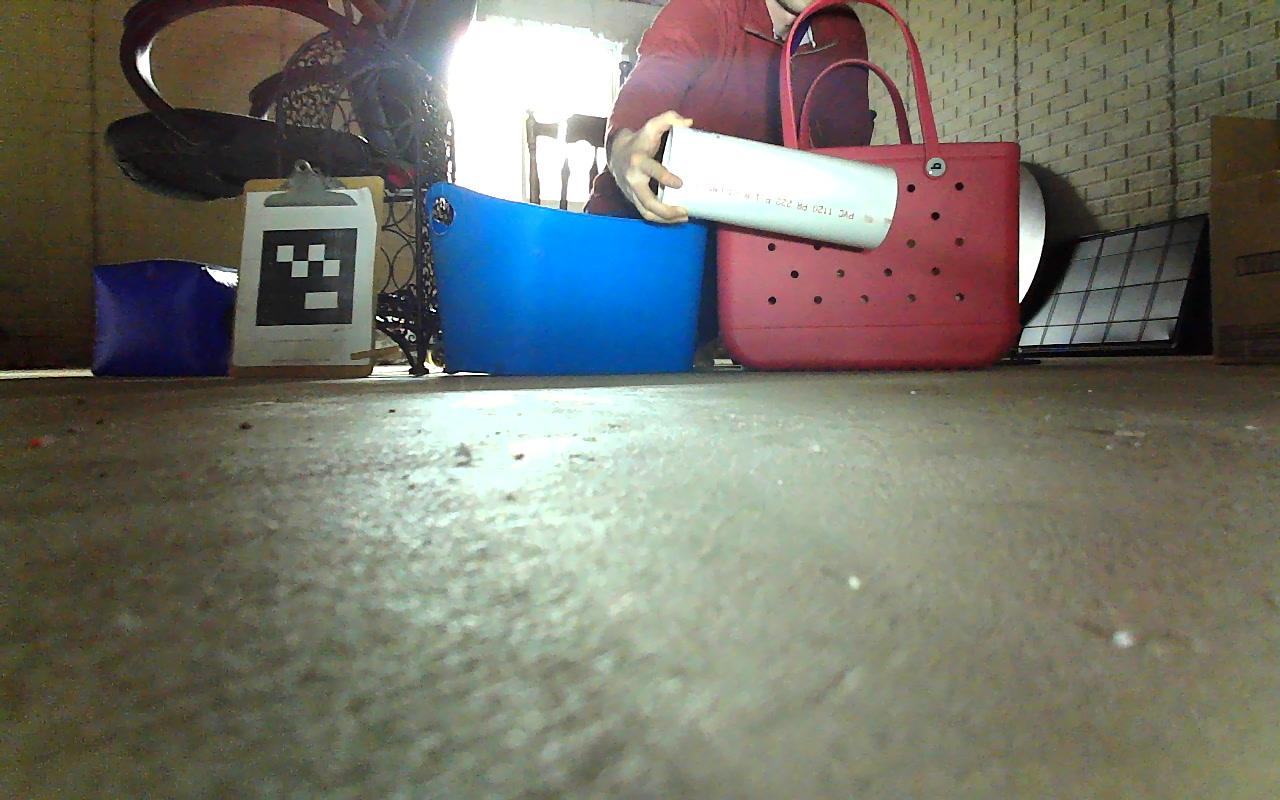coral: (657, 120, 897, 249)
